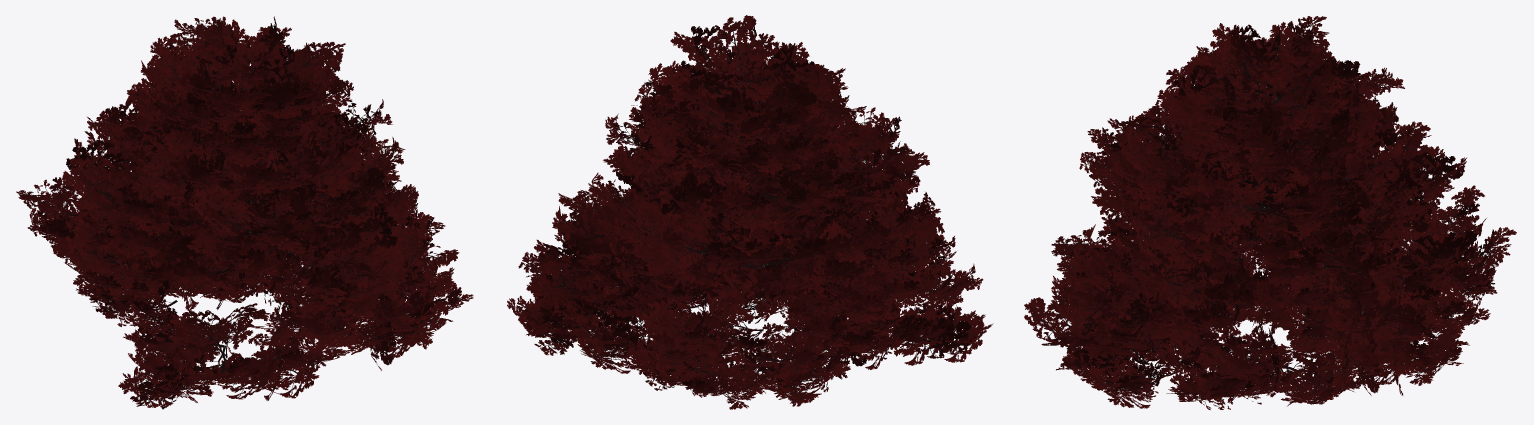
3 views of the same model, side by side, from view 1: azimuth 30°, elevation 25°; view 2: azimuth 150°, elevation 25°; view 3: azimuth 270°, elevation 25° (orthographic). The views are drawn at different scales.
Visible parts, largest first — view 1: SM_GF_Oak_Tree_02_Canopy_LOD0; view 2: SM_GF_Oak_Tree_02_Canopy_LOD0; view 3: SM_GF_Oak_Tree_02_Canopy_LOD0.
Boxes of the visible parts, bbox=[...] form: SM_GF_Oak_Tree_02_Canopy_LOD0: bbox=[16, 16, 473, 409]; SM_GF_Oak_Tree_02_Canopy_LOD0: bbox=[507, 15, 993, 409]; SM_GF_Oak_Tree_02_Canopy_LOD0: bbox=[1024, 16, 1516, 410].
Size of the model in its own units: 21.24 by 18.16 by 22.71.
1 material, 1 textured.
